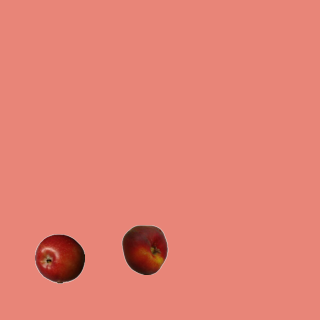Apple Braeburn: (34, 233, 84, 283)
Nectarine Flat: (119, 224, 169, 274)
